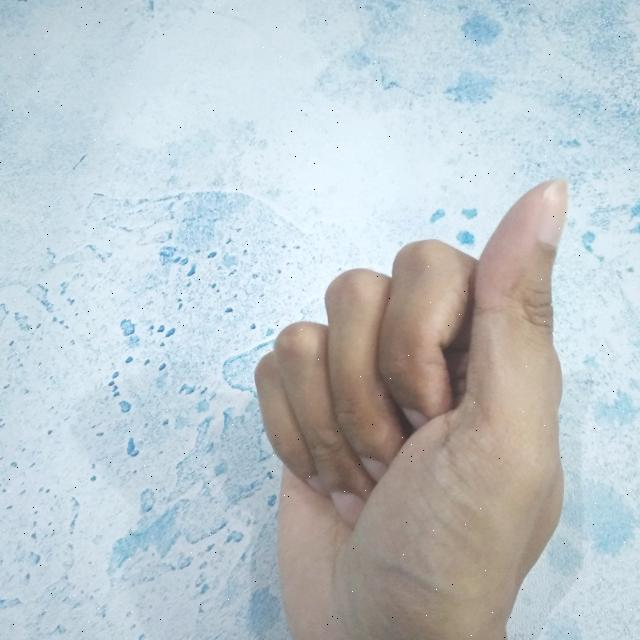A: (241, 169, 583, 640)
